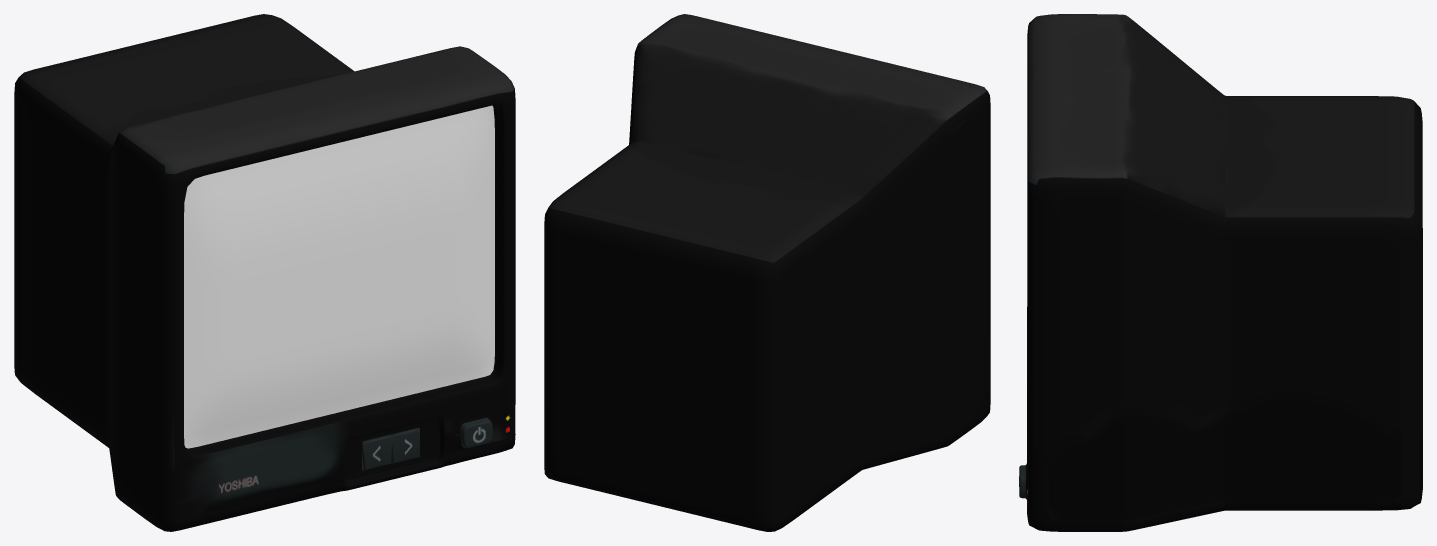
File: yoshiba_tv.glb
The picture shows the model from 3 angles, left to right: view 1: azimuth 30°, elevation 25°; view 2: azimuth 150°, elevation 25°; view 3: azimuth 270°, elevation 25°; orthographic projection. The views are drawn at different scales.
Visible parts, largest first — view 1: TV, Screen, ButtonDown, ButtonUp; view 2: TV; view 3: TV.
Part boxes in pixels (left/top/right/bottom): TV: left=14, top=14, right=515, bottom=531; Screen: left=184, top=105, right=494, bottom=448; ButtonDown: left=362, top=434, right=391, bottom=470; ButtonUp: left=391, top=427, right=420, bottom=463; TV: left=544, top=14, right=990, bottom=531; TV: left=1019, top=14, right=1422, bottom=531.
Size of the model in its own units: 2 by 2 by 2.04.
Materials: 2 (1 with a texture image).
